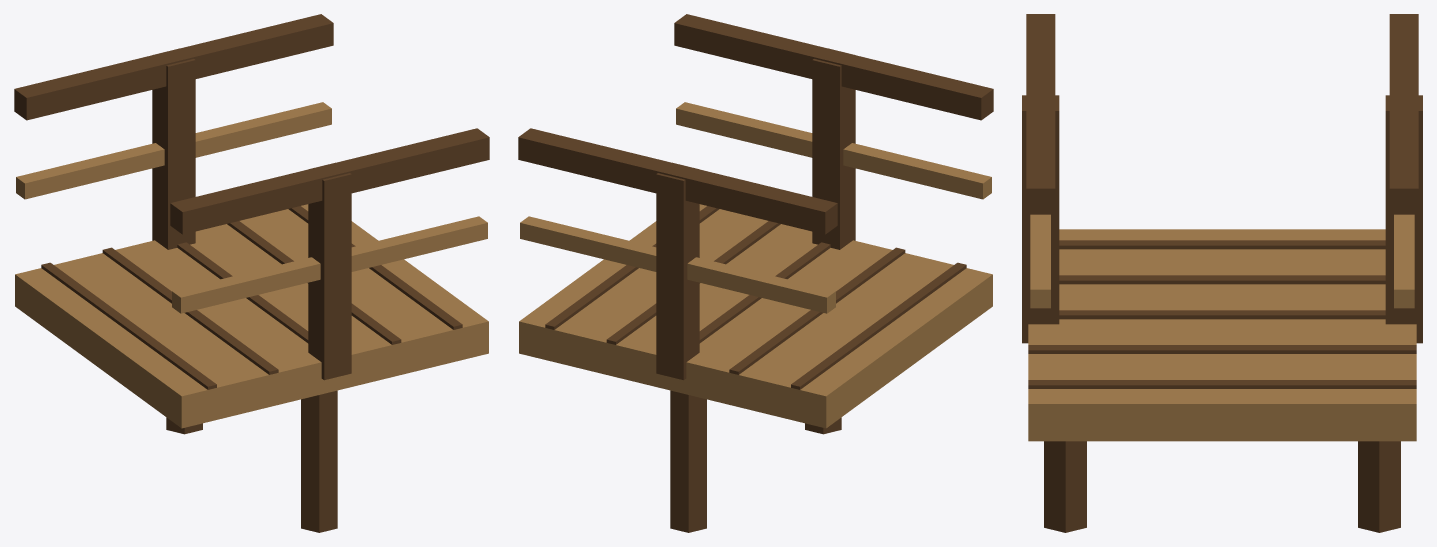
File: bridge_deck.obj
3 views of the same model, side by side, from view 1: azimuth 30°, elevation 25°; view 2: azimuth 150°, elevation 25°; view 3: azimuth 270°, elevation 25° (orthographic). The views are drawn at different scales.
Visible parts, largest first — view 1: part_0, part_10, part_6, part_12, part_7, part_11, part_8, part_13, part_1, part_2, part_3, part_4 (+1 smaller); view 2: part_0, part_6, part_10, part_8, part_7, part_11, part_12, part_9, part_1, part_2, part_3, part_4 (+1 smaller); view 3: part_0, part_6, part_10, part_9, part_13, part_8, part_12, part_4, part_5, part_1, part_2, part_3 (+2 smaller).
Part boxes in pixels (x1,y1,x2,y2): part_0: (15,204,488,428); part_10: (170,128,489,234); part_6: (14,14,333,120); part_12: (308,164,351,380); part_7: (16,102,331,199); part_11: (172,216,487,313); part_8: (152,48,195,249); part_13: (301,390,337,532); part_1: (41,262,216,389); part_2: (102,247,278,374); part_3: (177,242,308,343); part_4: (227,221,401,344); part_0: (519,204,992,428); part_6: (518,128,837,234); part_10: (674,14,993,120); part_8: (656,164,699,380); part_7: (520,216,835,313); part_11: (676,102,991,199); part_12: (812,48,855,249); part_9: (670,390,706,532); part_1: (791,262,966,389); part_2: (729,247,905,374); part_3: (699,242,830,343); part_4: (606,221,780,344); part_0: (1028,229,1416,441); part_6: (1389,14,1418,214); part_10: (1026,14,1055,214); part_9: (1358,441,1400,532); part_13: (1044,441,1086,532); part_8: (1385,95,1422,343); part_12: (1022,95,1059,343); part_4: (1028,345,1416,353); part_5: (1028,380,1416,388); part_1: (1059,240,1385,249); part_2: (1059,275,1385,284); part_3: (1059,310,1385,319).
Bounding box in the file's own units: 1 × 1.12 × 0.97.
